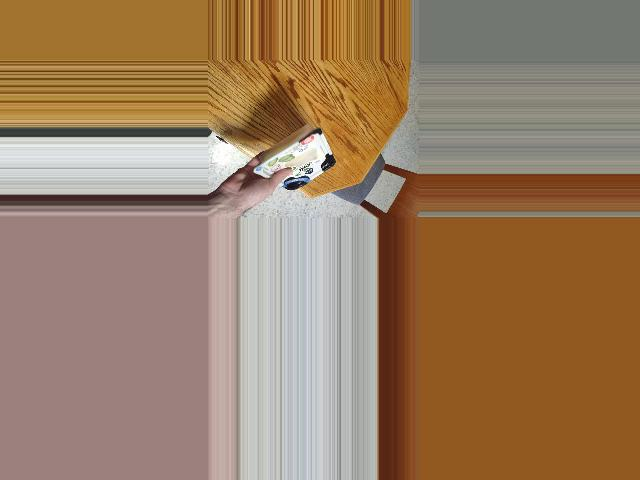cheese: (259, 111, 340, 192)
